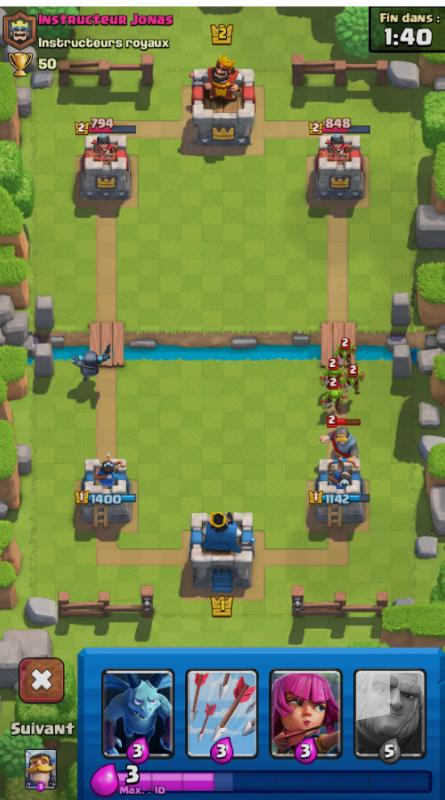chevalier: (317, 422, 367, 472)
gobelin: (337, 360, 376, 398), (317, 380, 353, 414), (321, 353, 349, 385), (336, 336, 357, 364)
mini_PEKKA: (71, 342, 119, 389)
